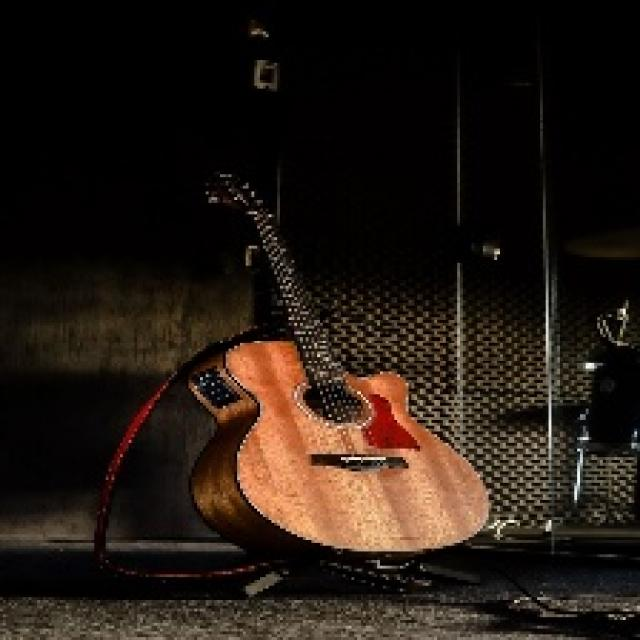guitar: (175, 171, 493, 569)
